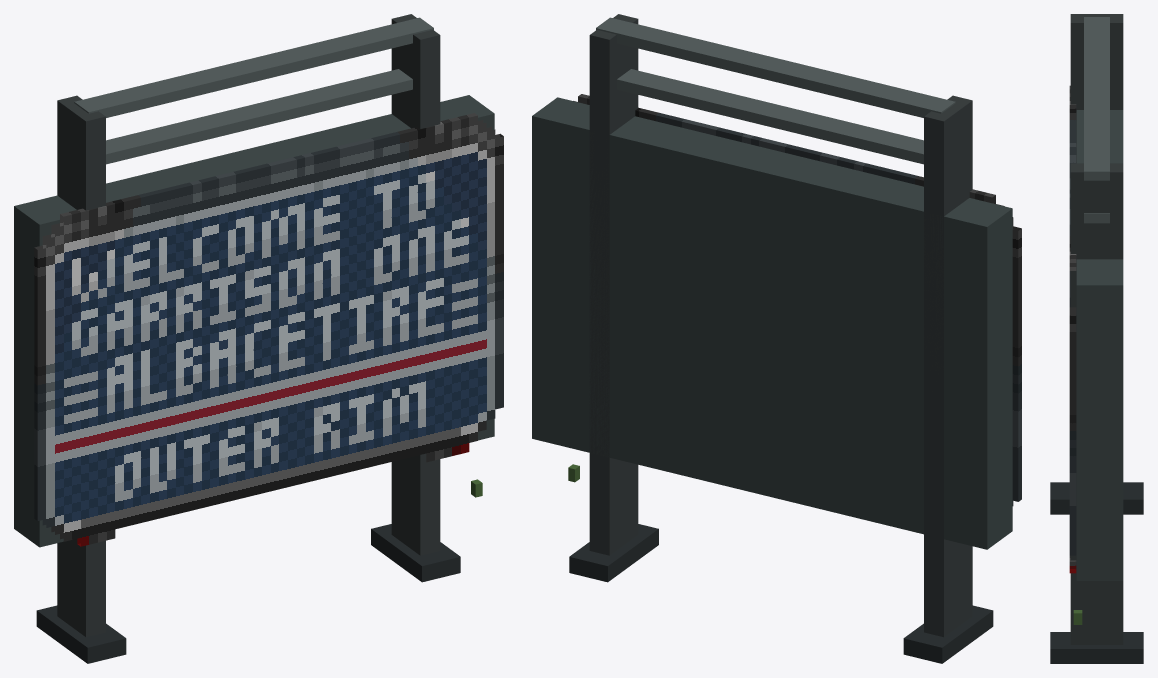
File: CMU3DPrintedAU14LandingSignStableColony.glb
3 renders of one model, left to right at view 1: azimuth 30°, elevation 25°; view 2: azimuth 150°, elevation 25°; view 3: azimuth 270°, elevation 25°, orthographic. The views are drawn at different scales.
Parts seen in each view (by area): view 1: original entrance display, steel stand leg (×2), upper stand cross brace (×2), rear sign housing, wide ground foot (×2); view 2: rear sign housing, steel stand leg (×2), upper stand cross brace (×2), original entrance display, wide ground foot (×2); view 3: rear sign housing, steel stand leg (×2), upper stand cross brace (×2), wide ground foot (×2), original entrance display.
Part boxes in pixels (x1,y1,x2,y2): original entrance display: (34,113,503,546); steel stand leg (×2): (57,14,440,637); upper stand cross brace (×2): (74,17,433,164); rear sign housing: (14,95,494,547); wide ground foot (×2): (36,524,460,663); rear sign housing: (532,97,1012,549); steel stand leg (×2): (589,14,972,637); upper stand cross brace (×2): (596,17,955,164); original entrance display: (573,94,1021,505); wide ground foot (×2): (569,524,993,663); rear sign housing: (1076,110,1123,580); steel stand leg (×2): (1070,14,1123,644); upper stand cross brace (×2): (1084,17,1109,223); wide ground foot (×2): (1050,482,1143,663); original entrance display: (1069,85,1076,573).
Bounding box in the file's own units: 1.69 × 1.85 × 0.32.
6 materials, 1 textured.
